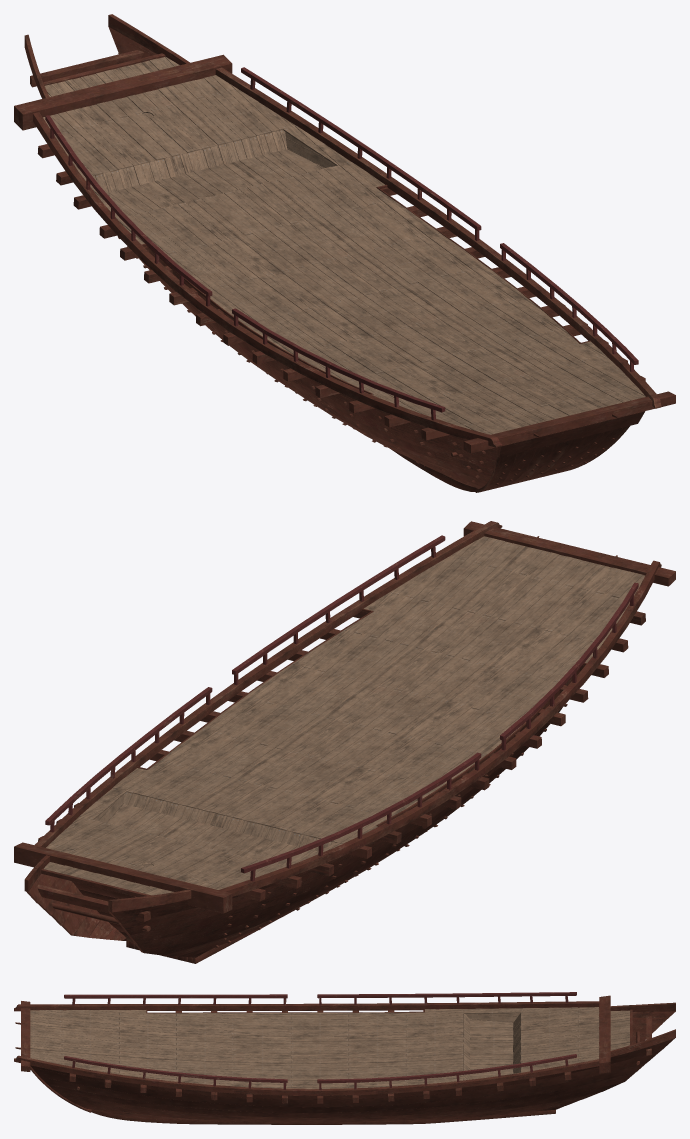
File: SM_Hull.fbx
3 views of the same model, one above another, from view 1: azimuth 30°, elevation 25°; view 2: azimuth 150°, elevation 25°; view 3: azimuth 270°, elevation 25° (orthographic). The views are drawn at different scales.
Parts seen in each view (by area): view 1: SM_Hull; view 2: SM_Hull; view 3: SM_Hull.
Boxes of the visible parts, box(x1,y1,x2,y2) form: SM_Hull: box(14, 14, 675, 492); SM_Hull: box(14, 521, 675, 963); SM_Hull: box(14, 992, 675, 1124).
Bounding box in the file's own units: 1130 × 537 × 3454.
